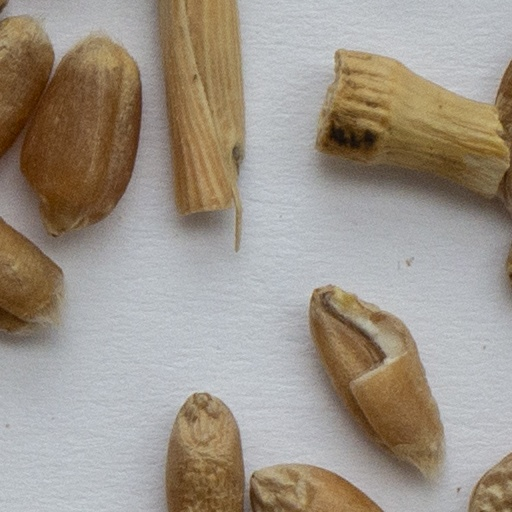Peel-poly: (319, 50, 508, 194), (159, 0, 243, 251)
